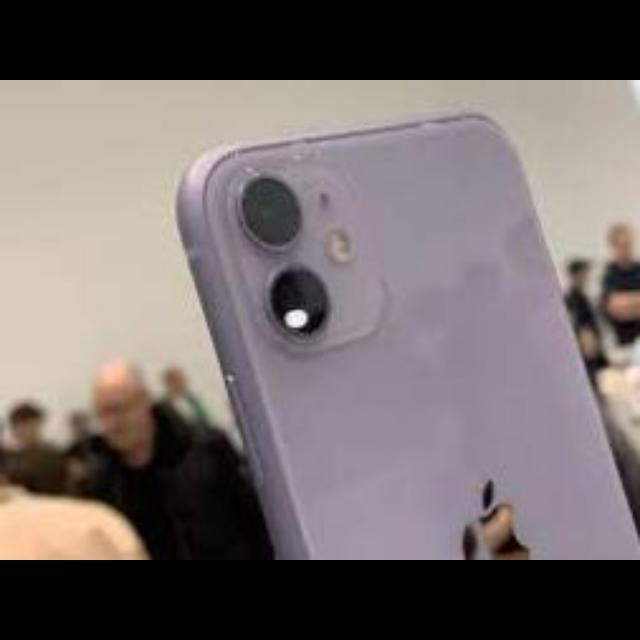phone: (125, 87, 639, 557)
